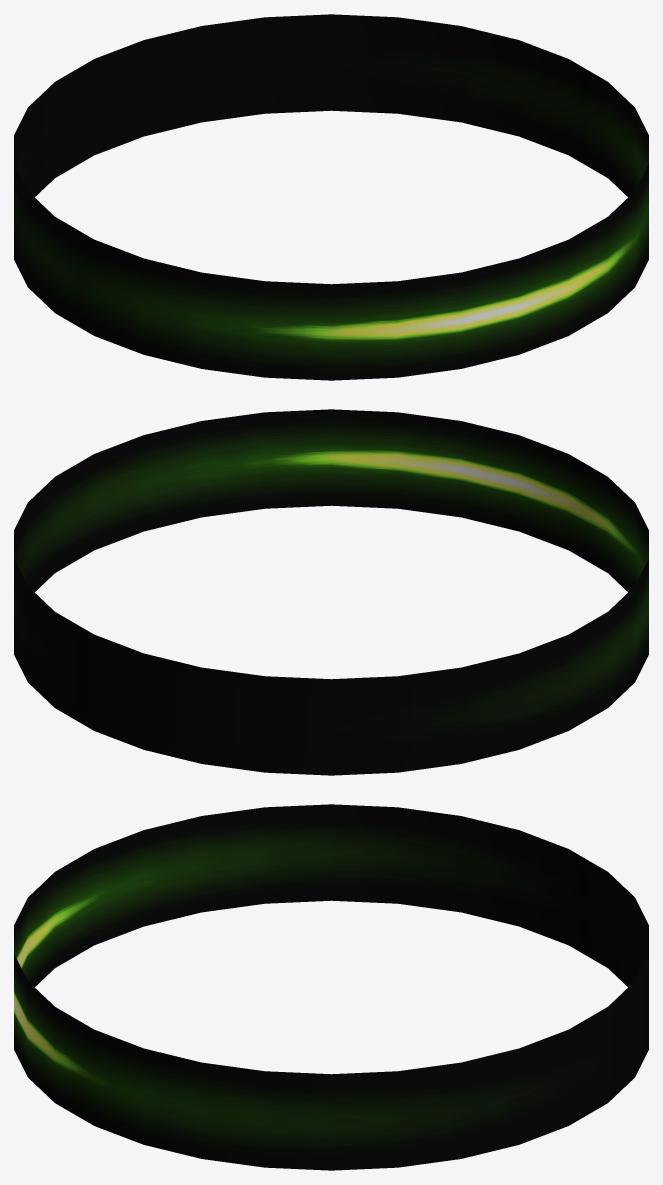
The model's file is 0266_dailu_M.glb.
3 views of the same model, one above another, from view 1: azimuth 30°, elevation 25°; view 2: azimuth 150°, elevation 25°; view 3: azimuth 270°, elevation 25° (orthographic).
Size of the model in its own units: 2.2 by 0.3667 by 2.19.
1 material, 1 textured.
